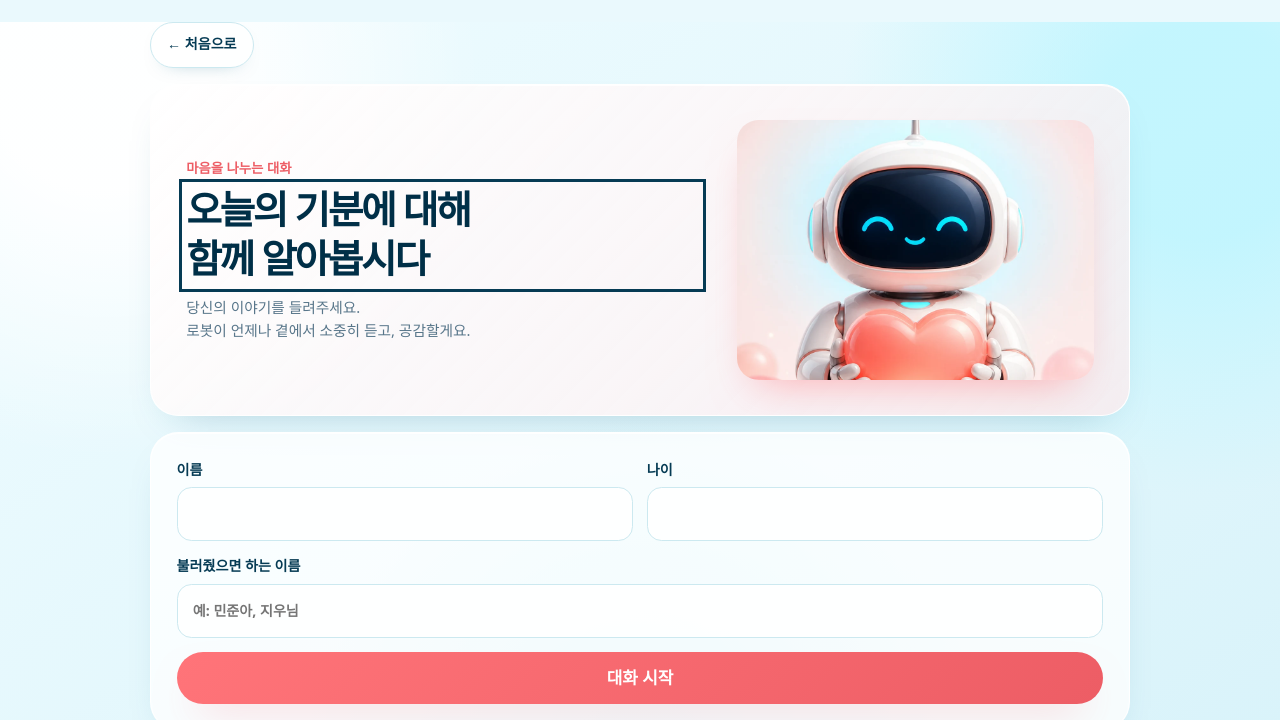
EmotionFlow › keeps typed input available when speech is unsupported
The width and height of the screenshot is (1280, 720).
Type "민준" into the field labelled "이름" at (405,514), box [177, 488, 633, 542]
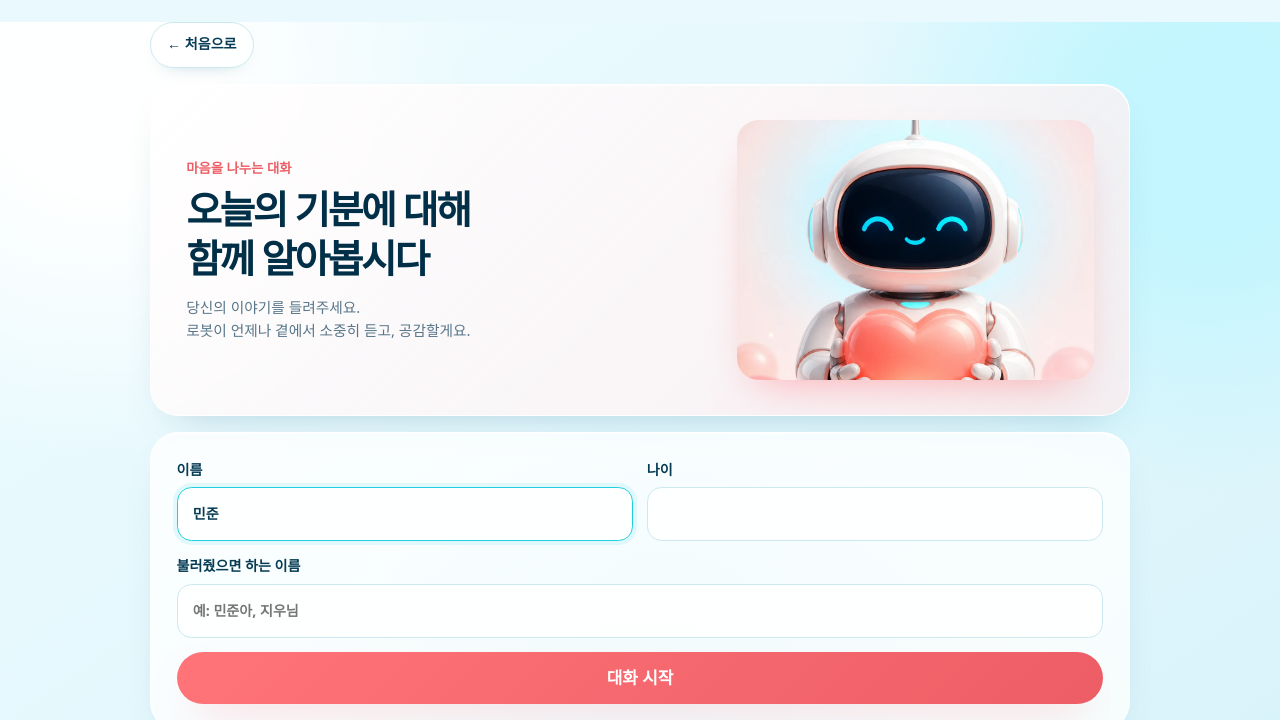
Type "10" into the number field labelled "나이" at (875,514), box [647, 488, 1103, 542]
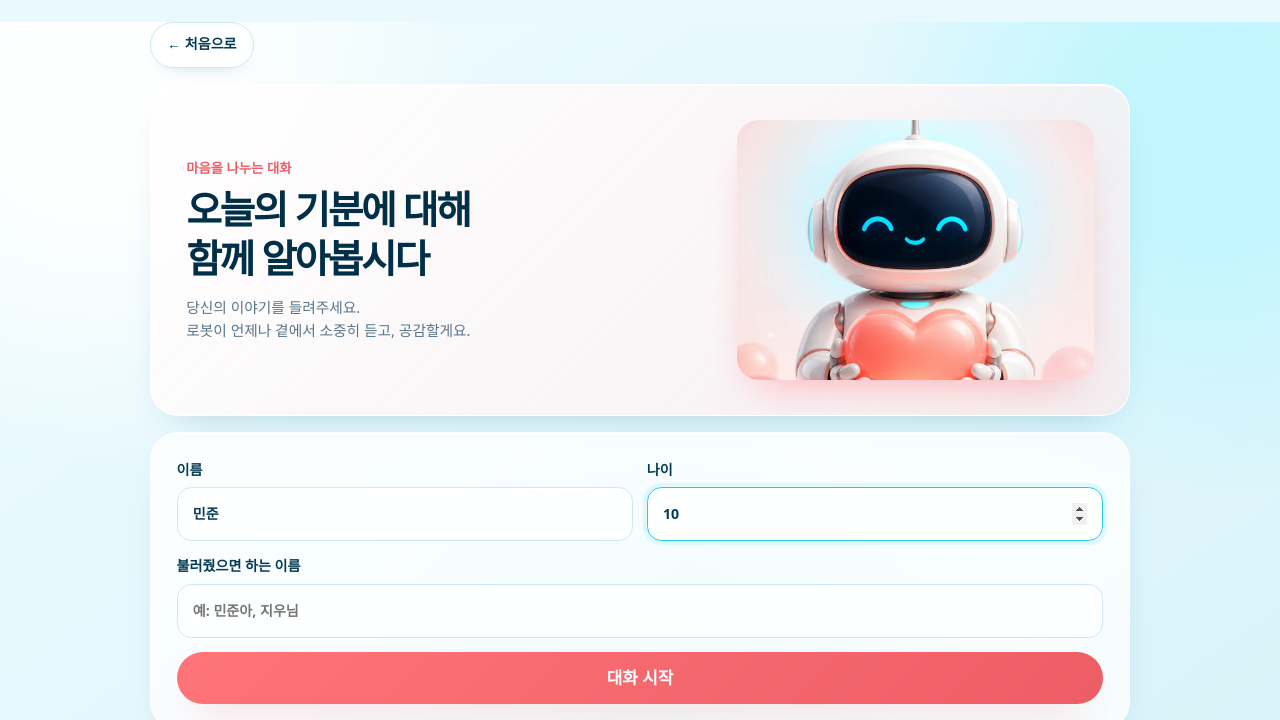
Type "민준아" into the field labelled "불러줬으면 하는 이름" at (640,611), box [177, 584, 1103, 638]
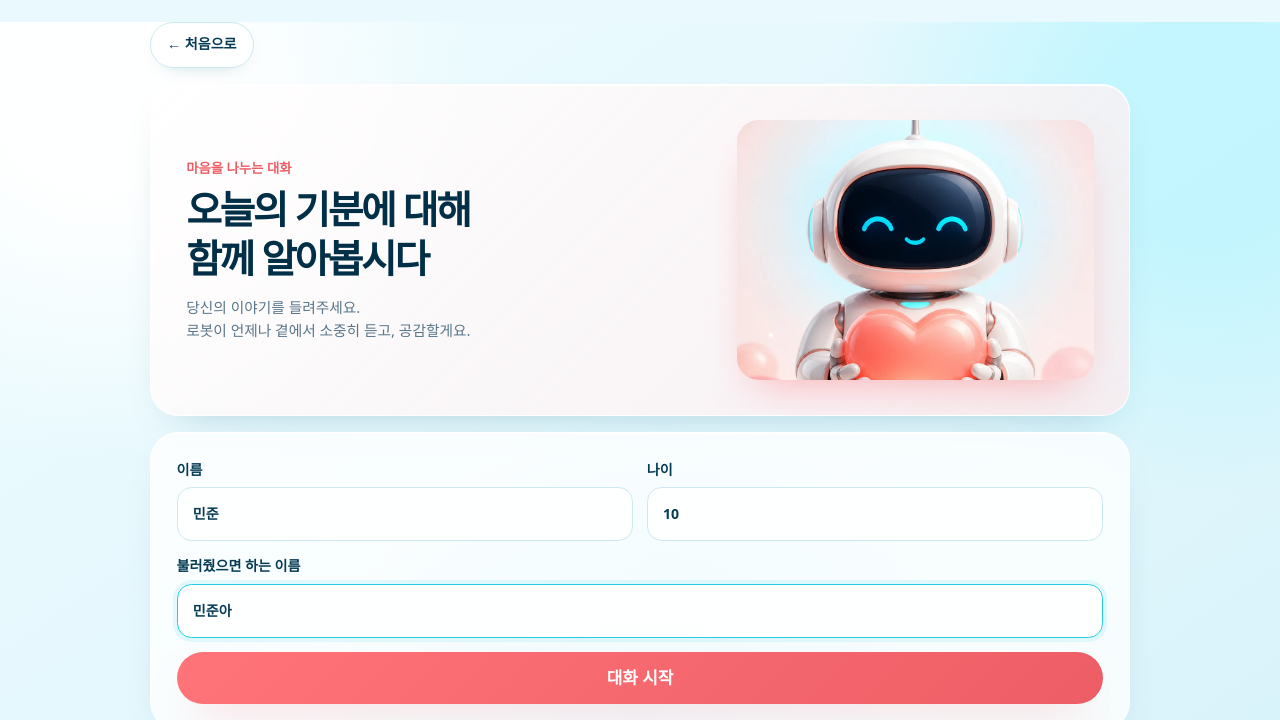
Click the button "대화 시작" at (640,678), box [177, 652, 1103, 704]
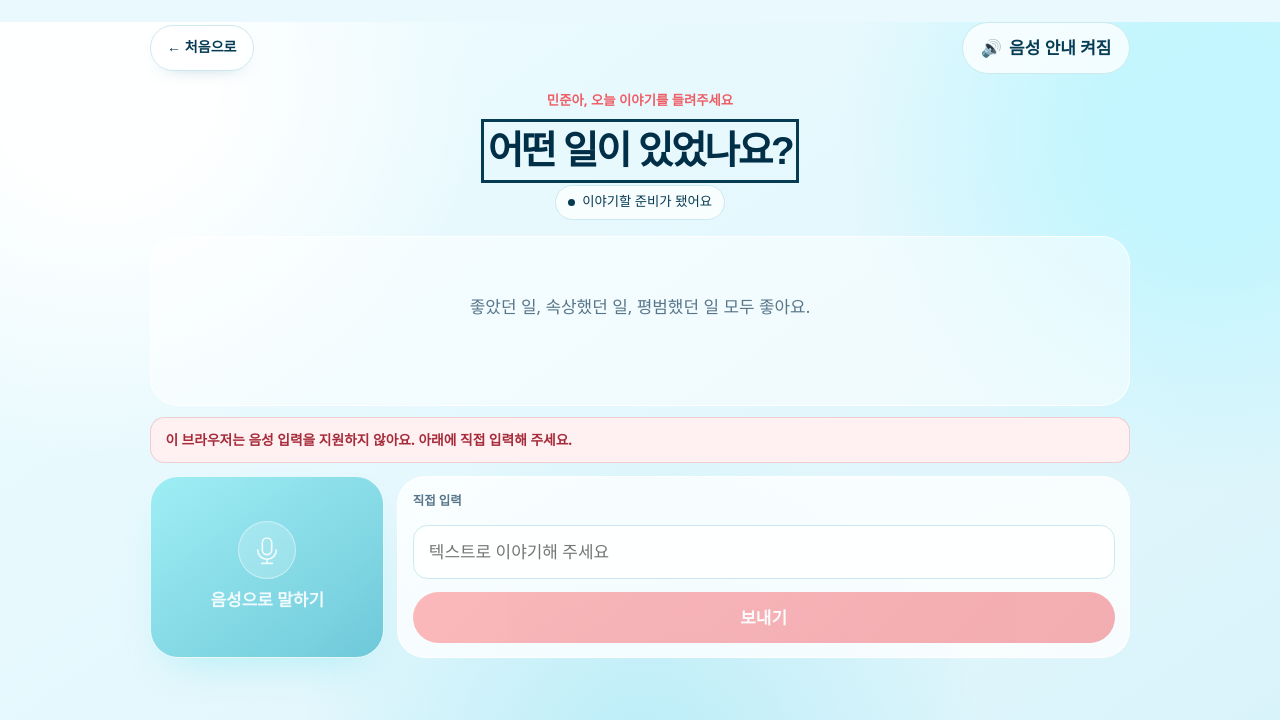
Check: the text "이 브라우저는 음성 입력을 지원하지 않아요. 아래에 직접 입력해 주세요." is shown, box [150, 417, 1130, 463]
Check: the field labelled "직접 입력" is enabled
Type "오늘은 조금 심심했어요" into the field labelled "직접 입력" at (764,552), box [413, 525, 1115, 579]
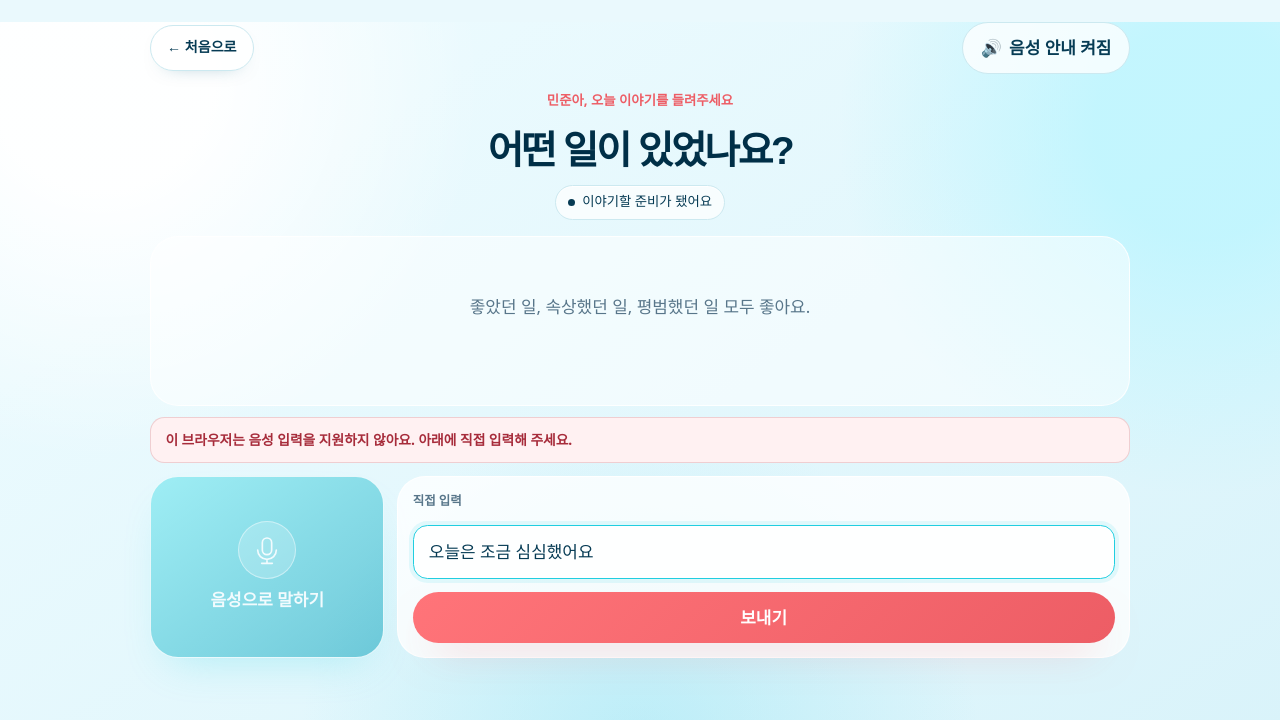
Click the button "보내기" at (764,618), box [413, 592, 1115, 643]
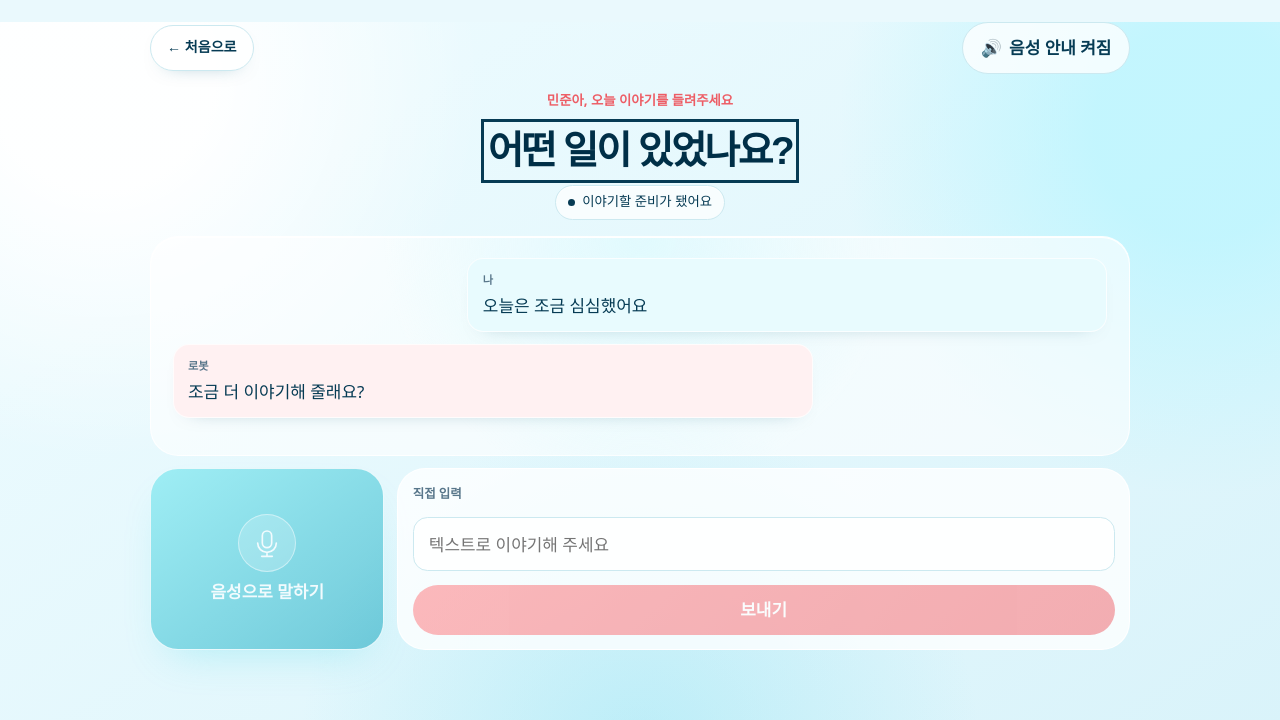
Check: the field labelled "직접 입력" is enabled, box [413, 517, 1115, 571]
Check: the text "조금 더 이야기해 줄래요?" is shown, box [188, 380, 364, 403]
